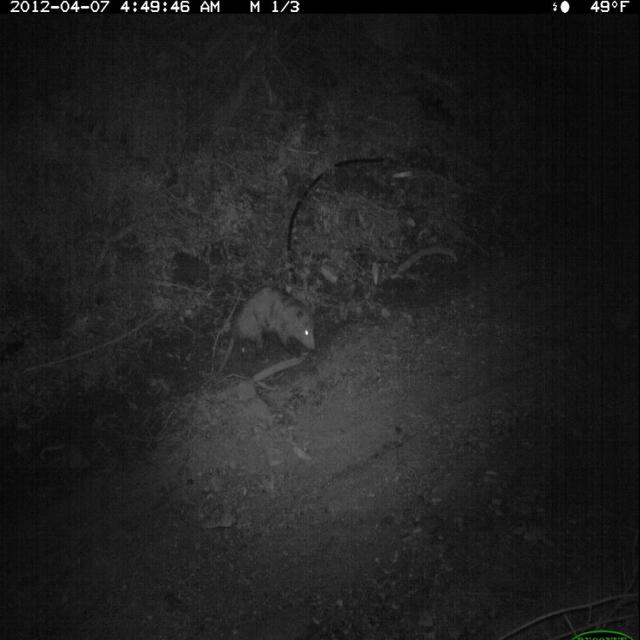opossum: (219, 282, 326, 389)
